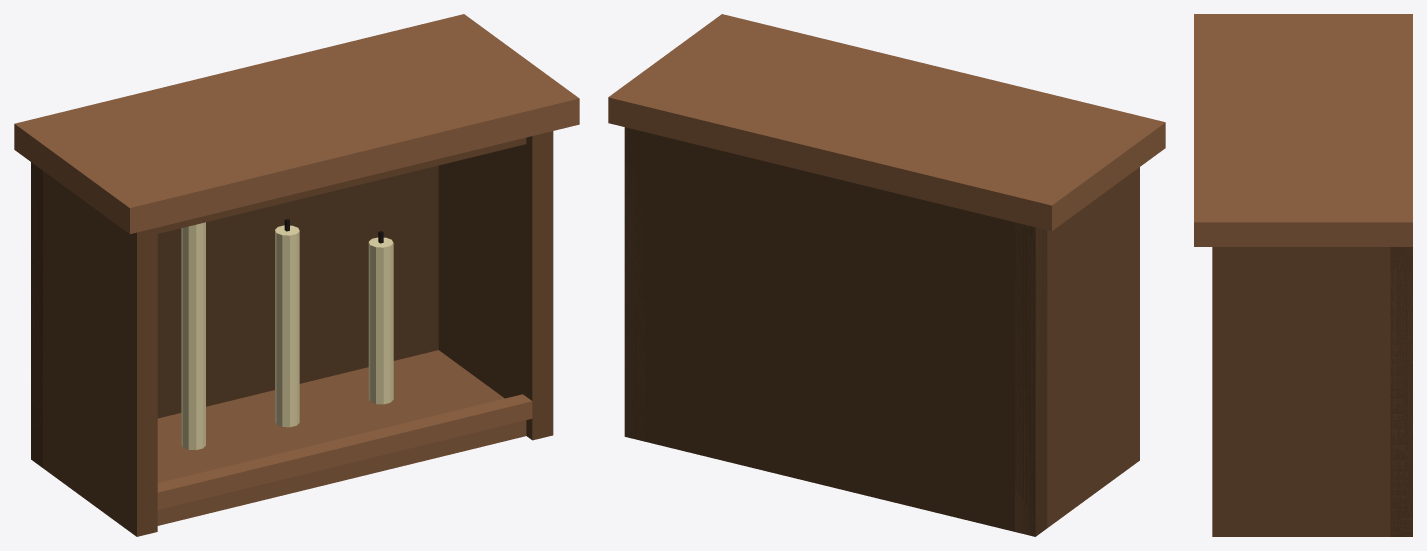
The model's file is aumbry-candles.glb.
3 views of the same model, side by side, from view 1: azimuth 30°, elevation 25°; view 2: azimuth 150°, elevation 25°; view 3: azimuth 270°, elevation 25° (orthographic). The views are drawn at different scales.
Parts seen in each view (by area): view 1: aumbry-candles; view 2: aumbry-candles; view 3: aumbry-candles.
Part boxes in pixels (x1=…): aumbry-candles: x1=14, y1=14, x2=579, y2=536; aumbry-candles: x1=608, y1=14, x2=1165, y2=536; aumbry-candles: x1=1194, y1=14, x2=1412, y2=536.
Size of the model in its own units: 0.54 by 0.39 by 0.24.
1 material, 1 textured.
